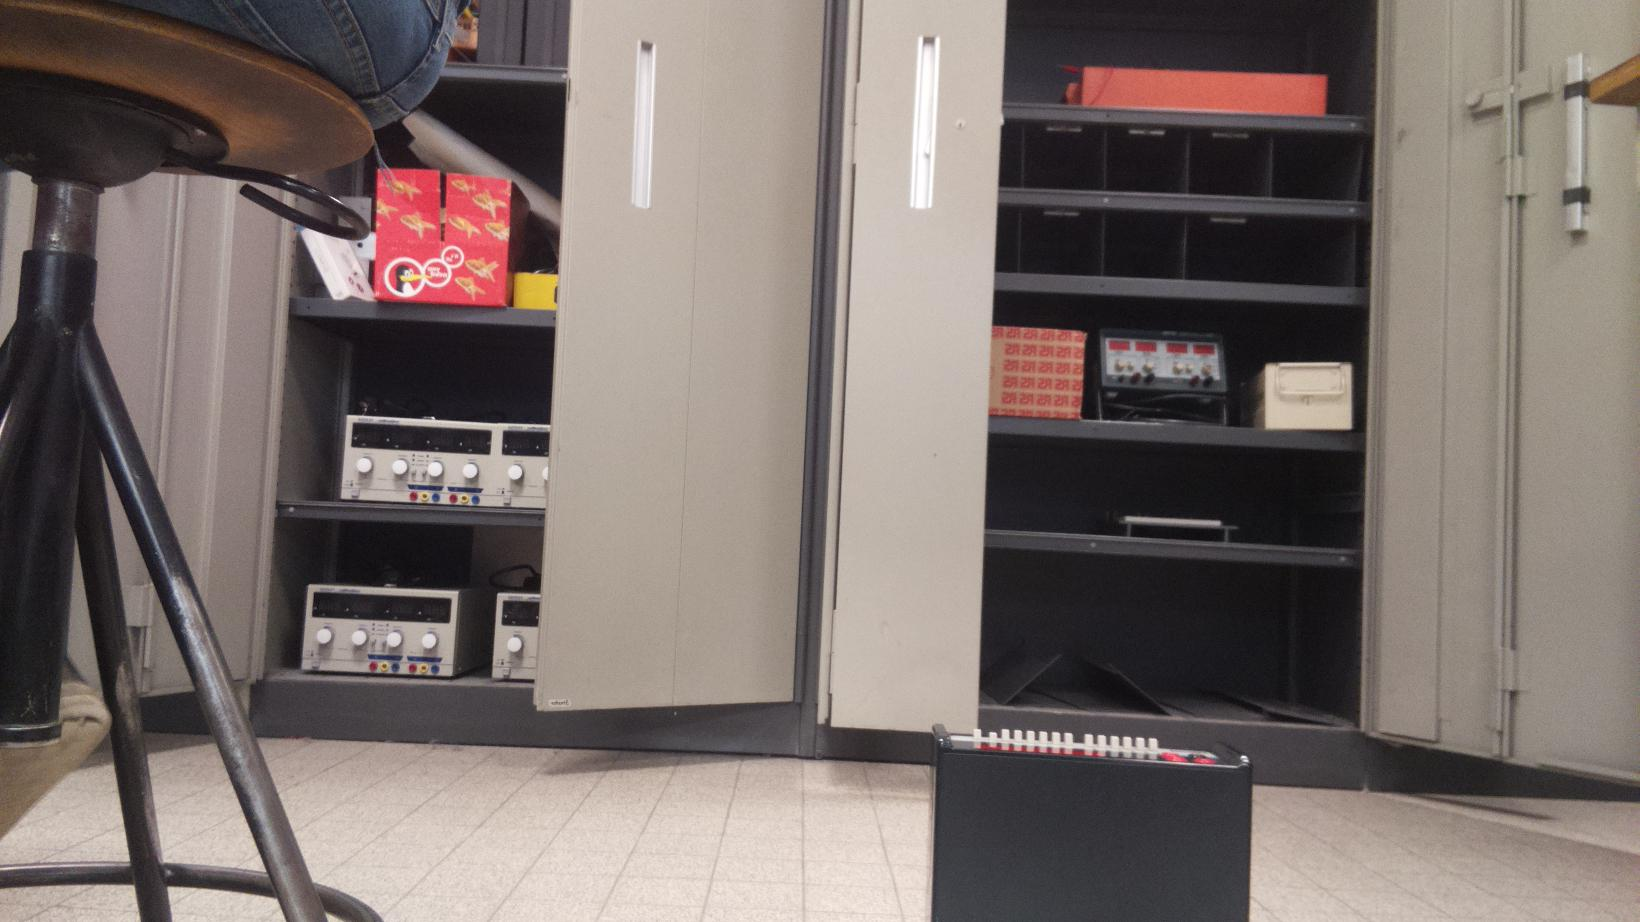medium: (927, 723, 1255, 922)
